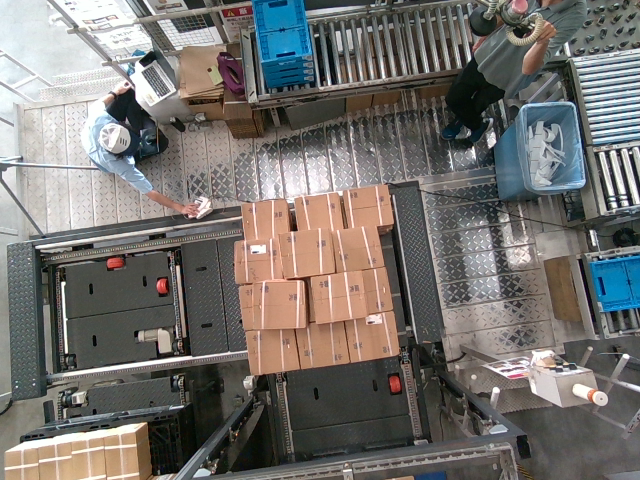box: (311, 271, 365, 325), (291, 322, 349, 369), (251, 278, 302, 329), (344, 311, 395, 362), (245, 328, 300, 374), (279, 228, 330, 276), (232, 235, 282, 282), (332, 226, 382, 269), (343, 184, 393, 226)
